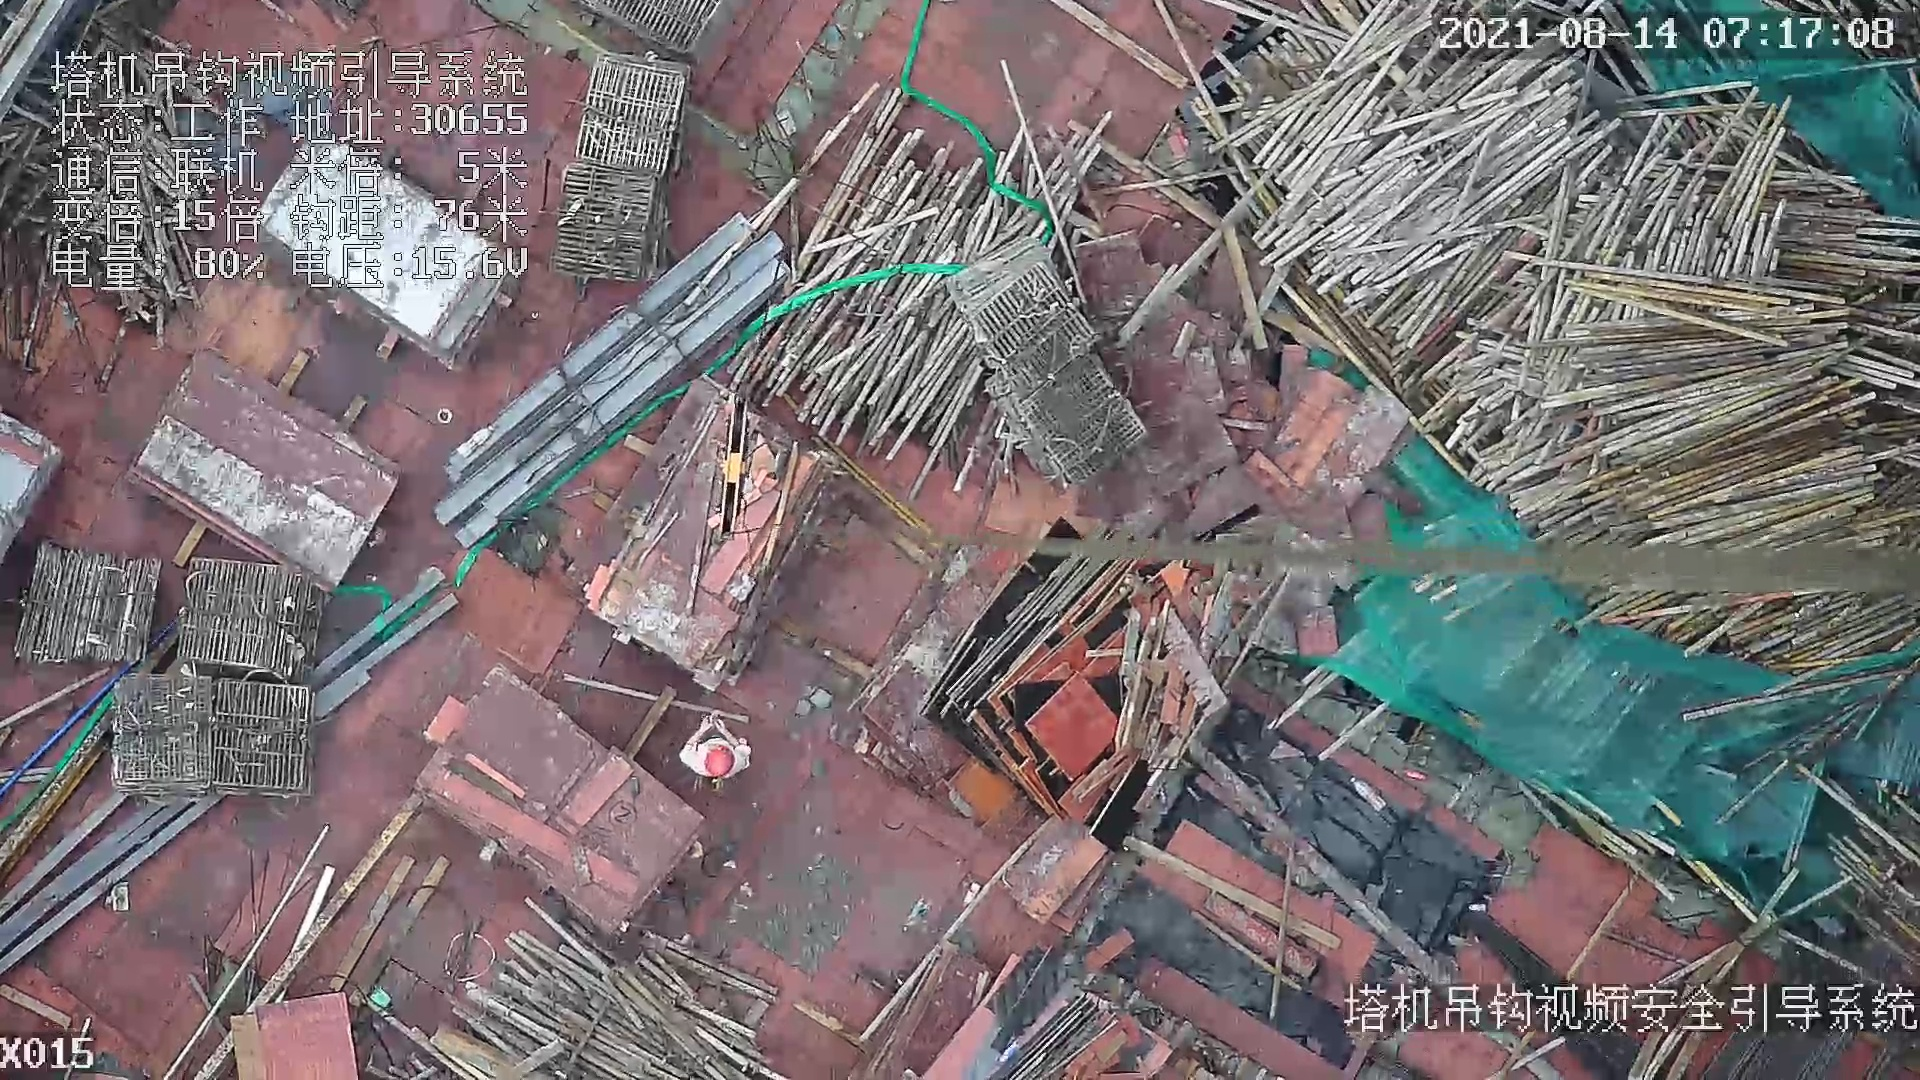helmet: (699, 742, 736, 782)
hook: (713, 392, 751, 542)
person: (669, 712, 764, 787)
